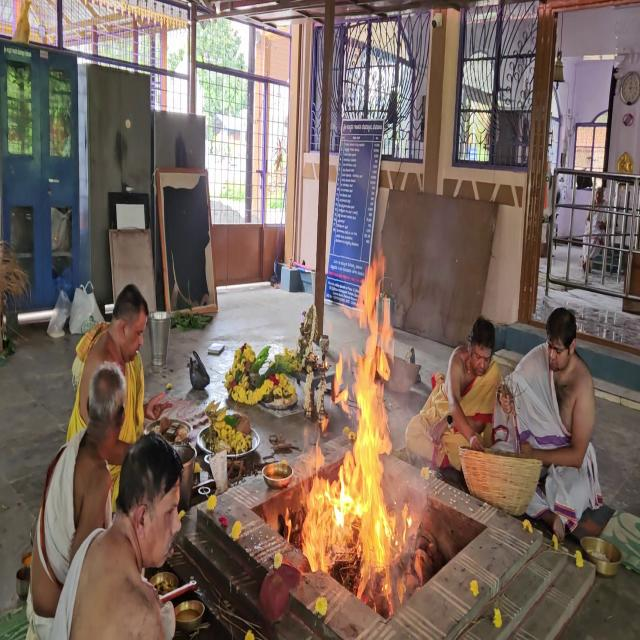fire: (293, 220, 426, 606)
